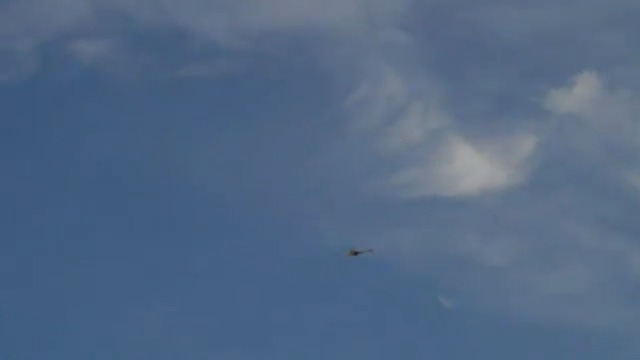helicopter: (347, 246, 376, 258)
